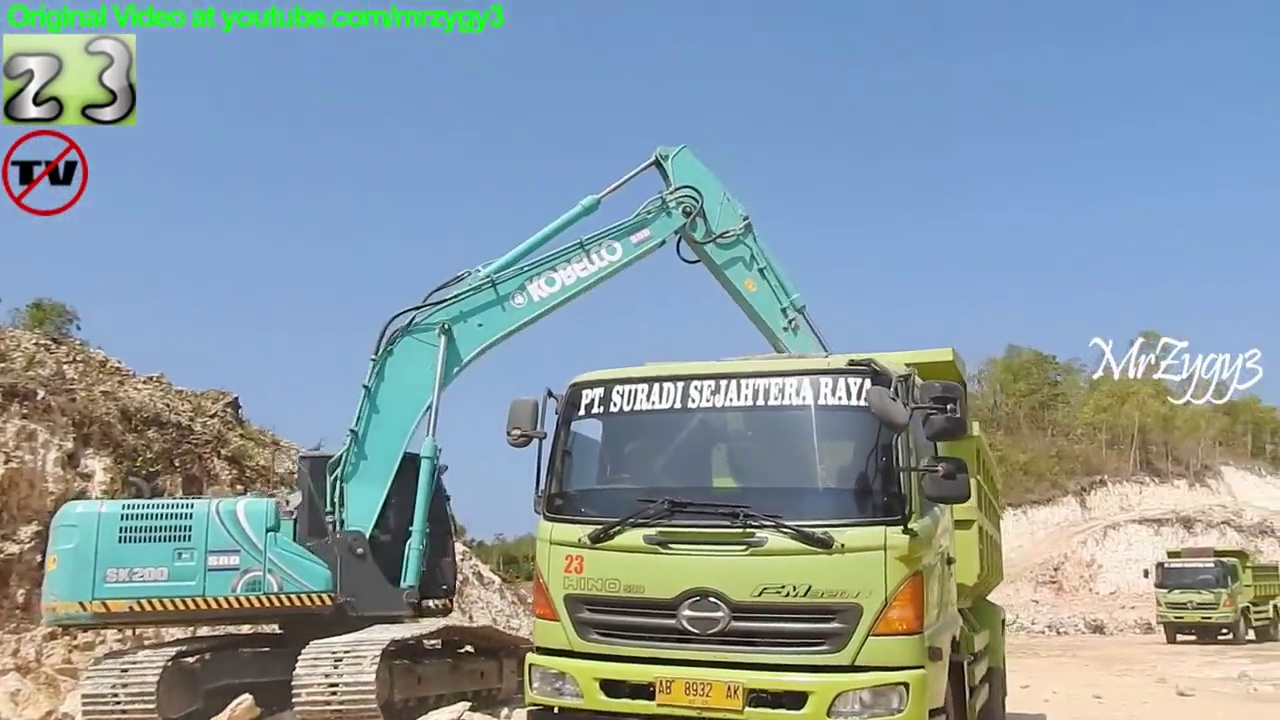excavator: (31, 136, 911, 720)
truck: (499, 337, 1019, 720), (1138, 543, 1280, 650)
